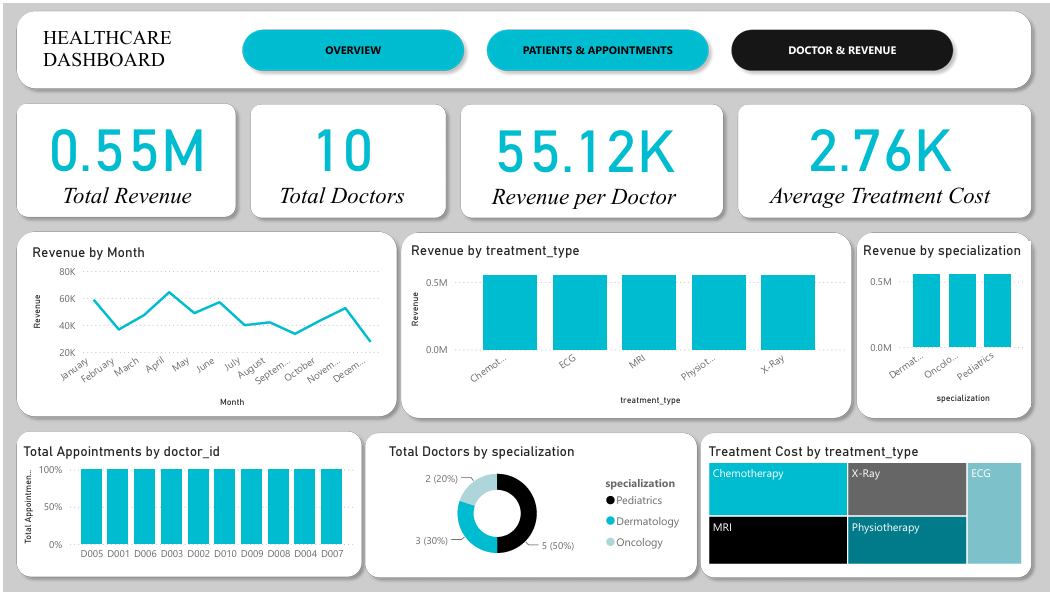

The dashboard page shown, as its layout file describes it:
{"tool":"powerbi","page":{"name":"DOCTOR & REVENUE","canvas":[1280,720],"ordinal":2},"visuals":[{"type":"shape","box":[7.2,0.4,1258.3,112.5],"z":0},{"type":"textbox","box":[43.5,22.6,194.3,68.6],"z":1000},{"type":"pageNavigator","box":[283.5,22.6,888.6,68.6],"z":2000},{"type":"shape","box":[7.1,112.9,285.7,157.1],"z":3000},{"type":"card","fields":{"Values":["all_measures.Total Revenue"]},"box":[18.6,112.9,264.3,142.9],"z":4000},{"type":"shape","box":[292.9,114.3,257.1,157.1],"z":5000},{"type":"card","fields":{"Values":["all_measures.Total Doctors"]},"box":[292.9,112.9,241.4,142.9],"z":6000},{"type":"shape","box":[550,114.3,338.6,157.1],"z":7000},{"type":"card","fields":{"Values":["all_measures.Revenue per Doctor"]},"box":[550,114.3,318.6,142.9],"z":8000},{"type":"shape","box":[888.6,114.3,377.1,157.1],"z":9000},{"type":"card","fields":{"Values":["all_measures.Average Treatment Cost"]},"box":[892.9,112.9,357.1,142.9],"z":10000},{"type":"shape","box":[7.1,270,482.9,244.3],"z":11000},{"type":"lineChart","fields":{"Category":["billing.bill_date.Variation.Date Hierarchy.Month"],"Y":["all_measures.Revenue"]},"box":[30,294.3,435.7,204.3],"z":12000},{"type":"shape","box":[7.1,514.3,440,195.7],"z":13000},{"type":"shape","box":[432.9,515.7,424.3,195.7],"z":14000},{"type":"donutChart","fields":{"Category":["doctors.specialization"],"Y":["all_measures.Total Doctors"]},"box":[465.7,537.1,377.1,154.3],"z":15000},{"type":"shape","box":[477.1,271.4,568.6,244.3],"z":16000},{"type":"columnChart","fields":{"Category":["treatments.treatment_type"],"Y":["all_measures.Revenue"]},"box":[492.9,291.4,541.4,204.3],"z":17000},{"type":"shape","box":[842.9,515.7,422.9,195.7],"z":18000},{"type":"treemap","fields":{"Group":["treatments.treatment_type"],"Values":["all_measures.Treatment Cost"]},"box":[857.1,537.1,392.9,154.3],"z":19000},{"type":"shape","box":[1034.3,271.4,231.4,244.3],"z":20000},{"type":"hundredPercentStackedColumnChart","fields":{"Category":["doctors.doctor_id"],"Y":["all_measures.Total Appointments"]},"box":[18.6,537.1,414.3,154.3],"z":21000},{"type":"clusteredColumnChart","fields":{"Category":["doctors.specialization"],"Y":["all_measures.Revenue"]},"box":[1045.7,291.4,210,201.4],"z":22000}]}

Visuals, with their boxes in screenshot pixels (x1, y1, x2, y2), scaled from the page's 1280x720 canvas onto the 1050x593 screenshot:
shape: [6, 0, 1038, 93]
textbox: [36, 19, 195, 75]
pageNavigator: [233, 19, 961, 75]
shape: [6, 93, 240, 222]
card - all_measures.Total Revenue: [15, 93, 232, 211]
shape: [240, 94, 451, 224]
card - all_measures.Total Doctors: [240, 93, 438, 211]
shape: [451, 94, 729, 224]
card - all_measures.Revenue per Doctor: [451, 94, 713, 212]
shape: [729, 94, 1038, 224]
card - all_measures.Average Treatment Cost: [732, 93, 1025, 211]
shape: [6, 222, 402, 424]
lineChart - billing.bill_date.Variation.Date Hierarchy.Month x all_measures.Revenue: [25, 242, 382, 411]
shape: [6, 424, 367, 585]
shape: [355, 425, 703, 586]
donutChart - doctors.specialization x all_measures.Total Doctors: [382, 442, 691, 569]
shape: [391, 224, 858, 425]
columnChart - treatments.treatment_type x all_measures.Revenue: [404, 240, 848, 408]
shape: [691, 425, 1038, 586]
treemap - treatments.treatment_type x all_measures.Treatment Cost: [703, 442, 1025, 569]
shape: [848, 224, 1038, 425]
hundredPercentStackedColumnChart - doctors.doctor_id x all_measures.Total Appointments: [15, 442, 355, 569]
clusteredColumnChart - doctors.specialization x all_measures.Revenue: [858, 240, 1030, 406]
